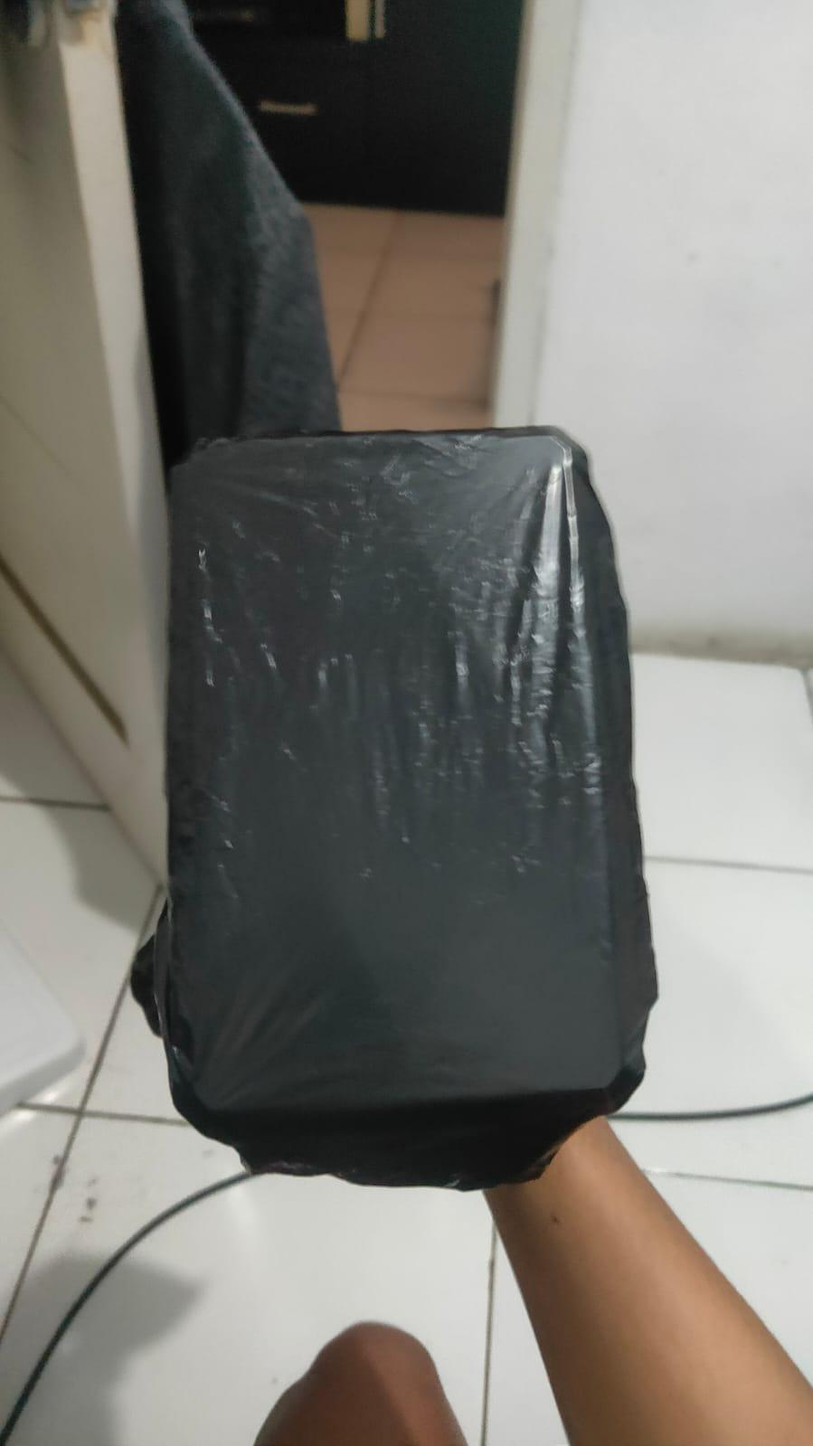undamaged: (108, 417, 669, 1210)
